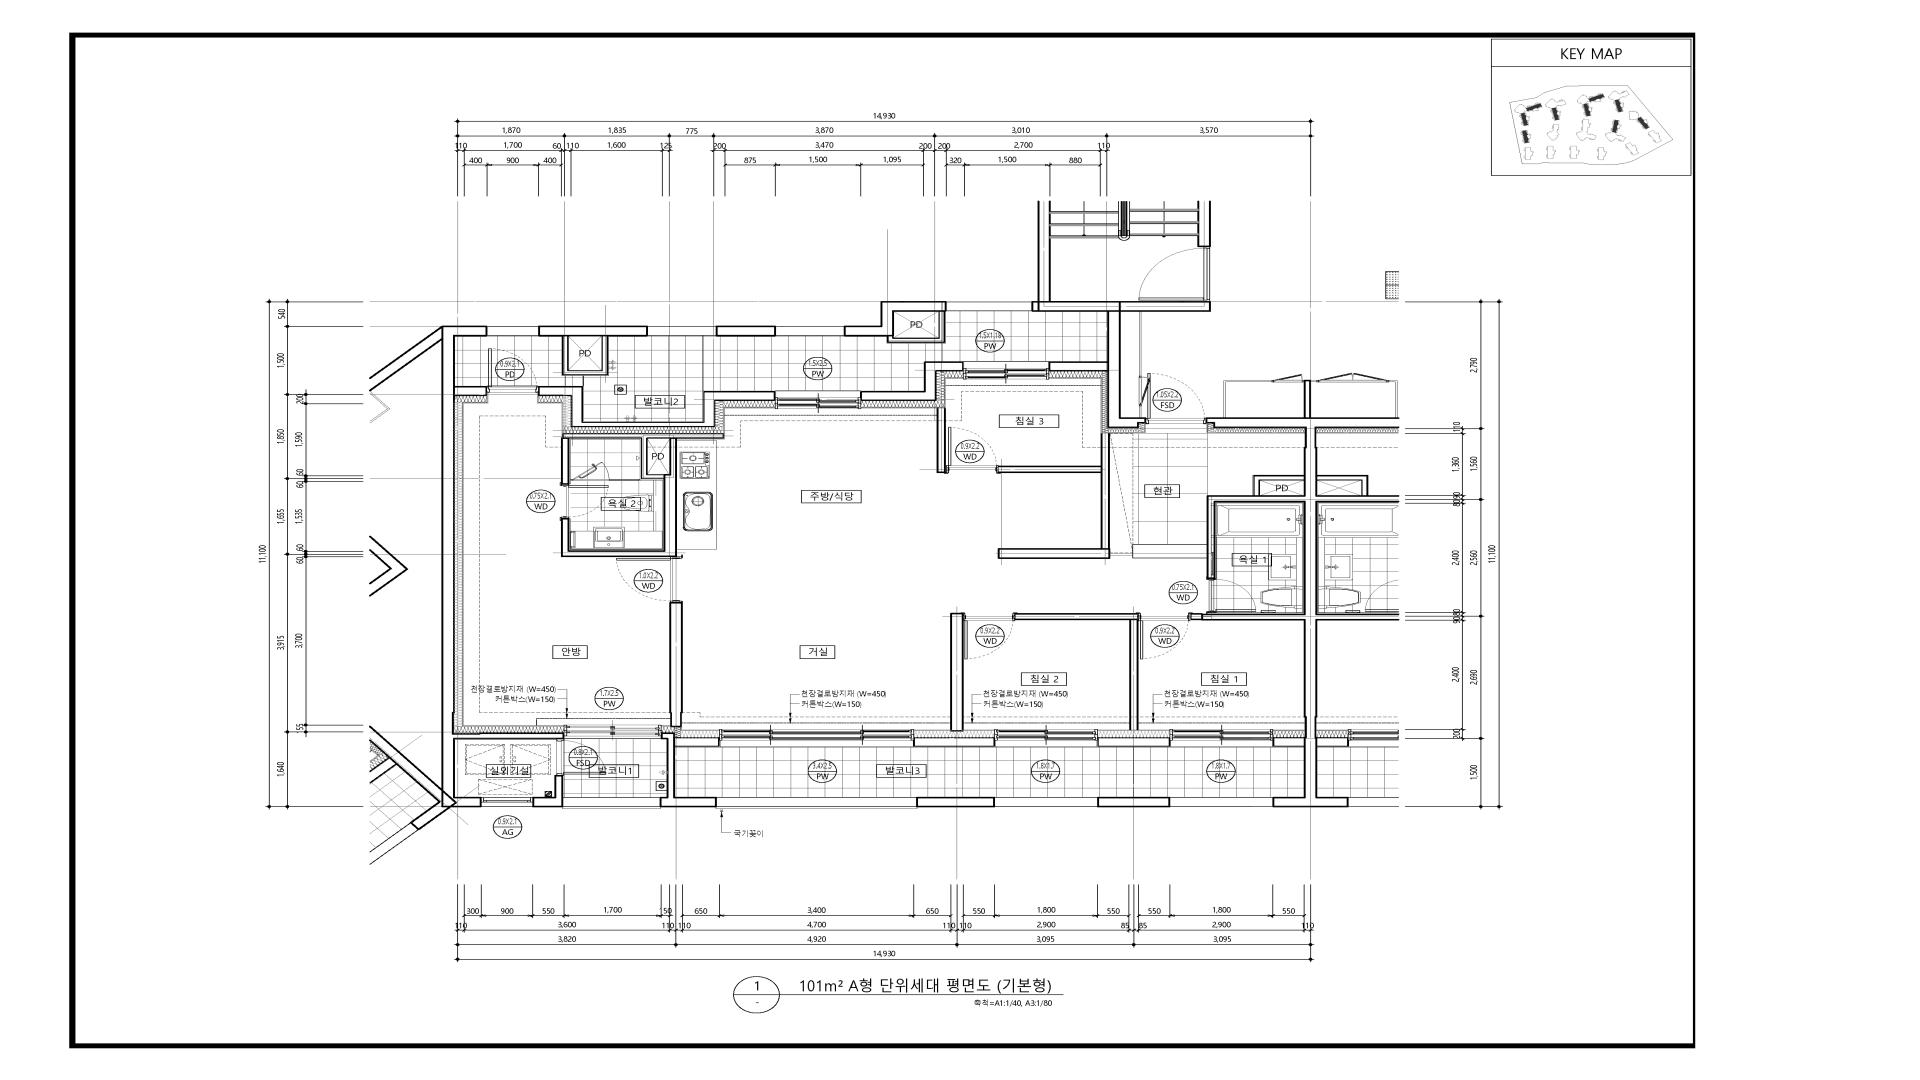door: (1138, 247, 1212, 301), (615, 556, 683, 603), (1146, 372, 1205, 423), (945, 426, 998, 473), (964, 613, 1015, 661), (487, 347, 538, 394), (1138, 613, 1191, 659), (1207, 579, 1257, 613), (560, 485, 609, 518), (570, 462, 609, 481), (1317, 372, 1389, 382), (1139, 376, 1151, 406), (1273, 373, 1303, 382)
wall: (1191, 495, 1399, 621), (442, 326, 488, 807), (1031, 200, 1211, 311), (1205, 417, 1399, 495), (1273, 621, 1349, 807), (998, 433, 1110, 559), (560, 439, 676, 556), (538, 386, 775, 427), (1108, 311, 1146, 429), (659, 732, 717, 807), (860, 361, 964, 401), (844, 301, 947, 336), (717, 796, 916, 807), (562, 336, 609, 376), (1224, 380, 1273, 417), (949, 613, 964, 732), (670, 601, 683, 727), (538, 326, 647, 336), (1317, 475, 1369, 496), (1170, 796, 1273, 807), (996, 796, 1097, 807), (1129, 620, 1138, 731), (1253, 475, 1304, 495), (563, 796, 659, 807), (947, 301, 1031, 313), (533, 775, 563, 807), (641, 438, 663, 480), (455, 732, 564, 740), (563, 434, 724, 439), (916, 796, 996, 807), (1014, 613, 1138, 620), (998, 465, 1101, 473), (1097, 796, 1171, 807), (914, 737, 996, 746), (775, 326, 844, 336), (647, 326, 716, 336), (1097, 737, 1170, 746), (716, 326, 777, 336), (1197, 200, 1211, 248), (1048, 361, 1108, 372), (936, 407, 945, 473), (488, 326, 538, 336), (1349, 796, 1399, 807), (560, 438, 570, 485), (675, 737, 720, 746), (1389, 380, 1398, 417), (1317, 737, 1349, 746), (1273, 737, 1304, 746), (455, 386, 487, 396), (1304, 380, 1311, 417), (1139, 311, 1141, 376), (609, 479, 640, 481), (1311, 380, 1317, 382), (1139, 406, 1141, 417), (1302, 380, 1304, 382)
window: (720, 729, 914, 741), (564, 725, 662, 740), (1170, 729, 1273, 741), (994, 729, 1097, 740), (775, 397, 861, 409), (963, 368, 1048, 380)
